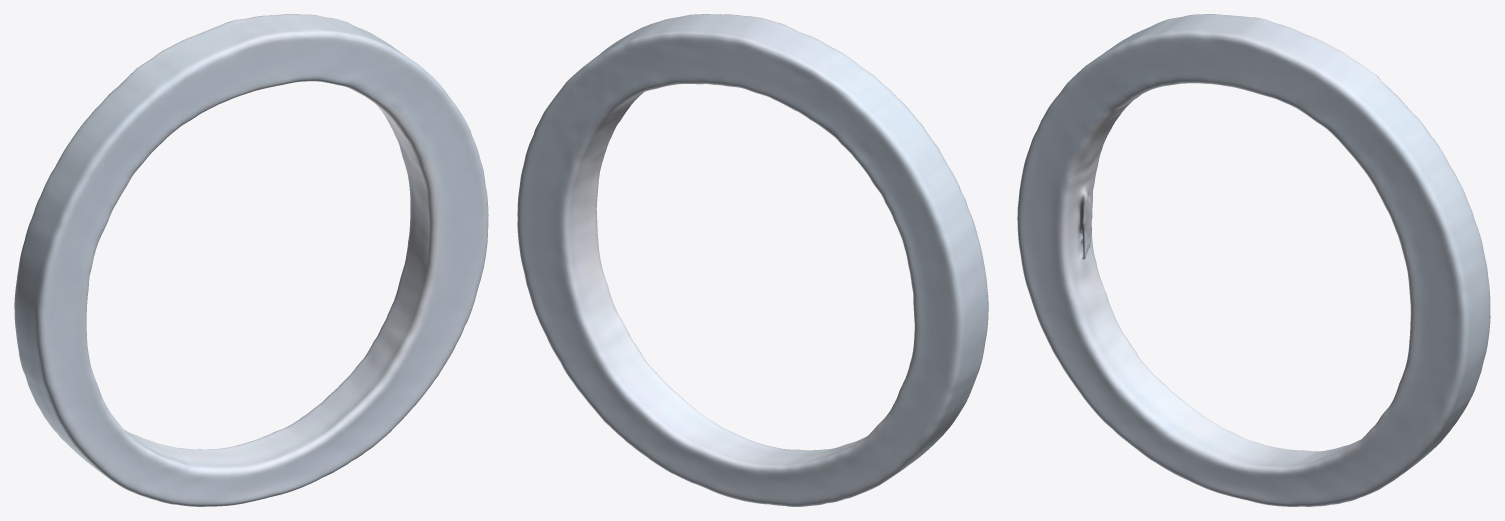
3 renders of one model, left to right at view 1: azimuth 30°, elevation 25°; view 2: azimuth 150°, elevation 25°; view 3: azimuth 330°, elevation 25°, orthographic.
Parts seen in each view (by area): view 1: mesh; view 2: mesh; view 3: mesh.
Part boxes in pixels (x1,y1,x2,y2): mesh: (14, 14, 488, 506); mesh: (517, 14, 988, 506); mesh: (1017, 14, 1490, 506).
Size of the model in its own units: 0.9997 by 0.9864 by 0.1121.
Materials: 1 (1 with a texture image).
